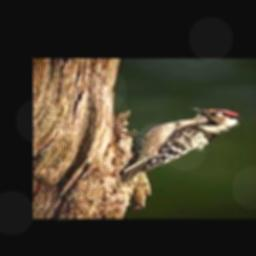Woodpecker: (122, 106, 241, 181)
